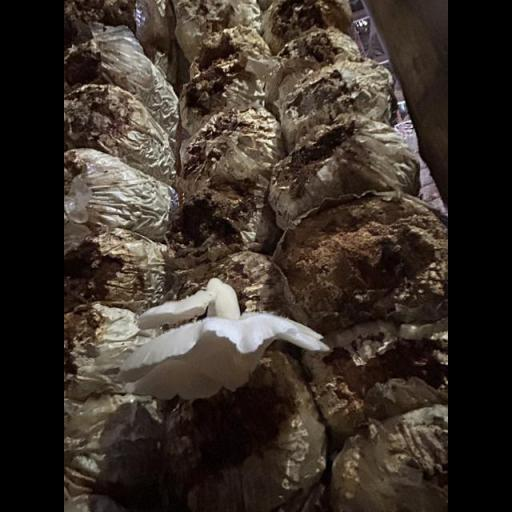White Oyster Mushroom: (112, 281, 333, 415)
